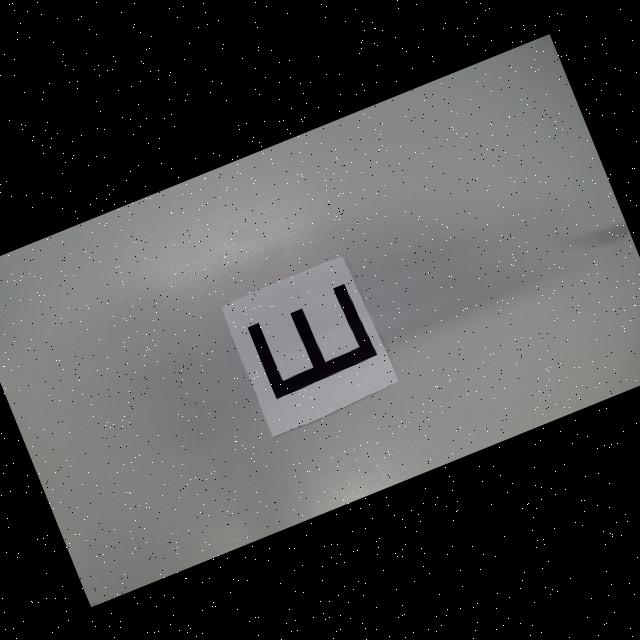FAKE: (244, 280, 378, 399)
